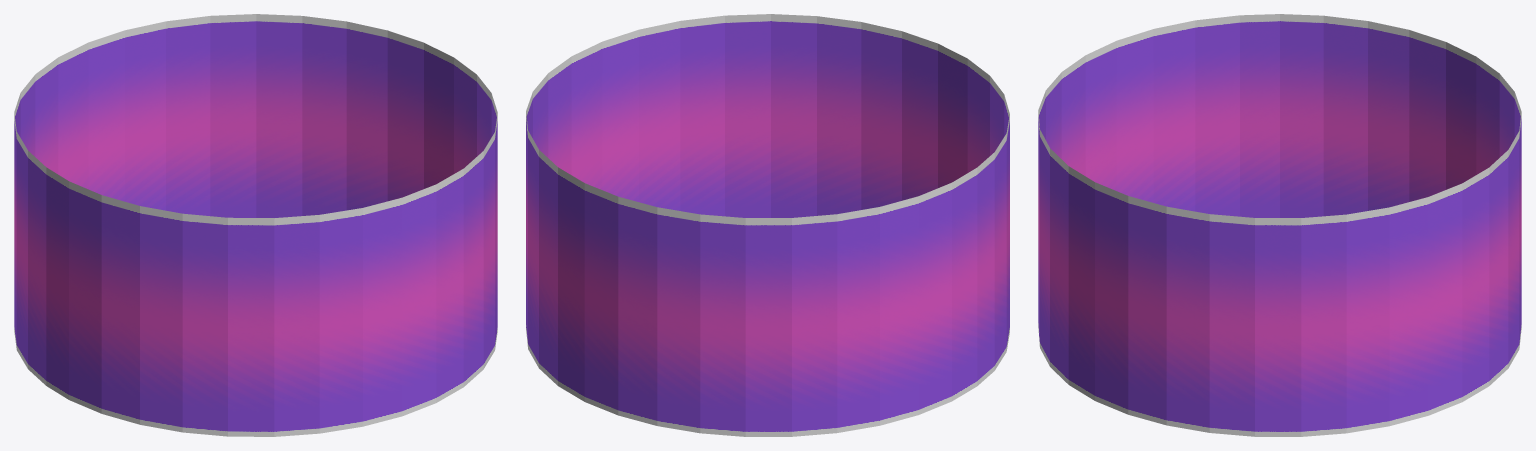
The model's file is bubble-v2.fbx.
The picture shows the model from 3 angles, left to right: view 1: azimuth 30°, elevation 25°; view 2: azimuth 150°, elevation 25°; view 3: azimuth 270°, elevation 25°; orthographic projection.
Parts seen in each view (by area): view 1: Plane.001, Plane; view 2: Plane.001, Plane; view 3: Plane.001, Plane.
Boxes of the visible parts, bbox=[...] form: Plane.001: bbox=[14, 14, 497, 436]; Plane: bbox=[14, 14, 497, 436]; Plane.001: bbox=[526, 14, 1009, 436]; Plane: bbox=[526, 14, 1009, 436]; Plane.001: bbox=[1038, 14, 1521, 436]; Plane: bbox=[1038, 14, 1521, 436].
Size of the model in its own units: 100 by 50 by 100.
Materials: 1 (1 with a texture image).
